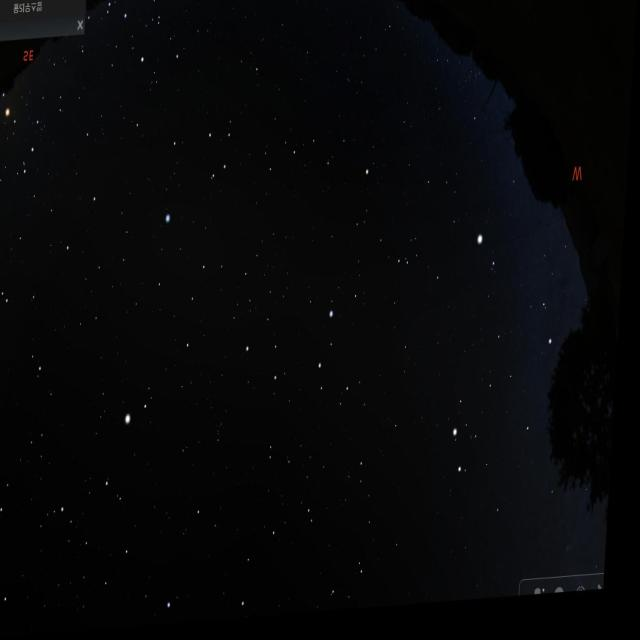bootes: (77, 383, 166, 600)
canis_minor: (465, 221, 512, 292)
gemini: (449, 344, 566, 493)
leo: (234, 287, 379, 430)
scorpius: (0, 74, 50, 189)
